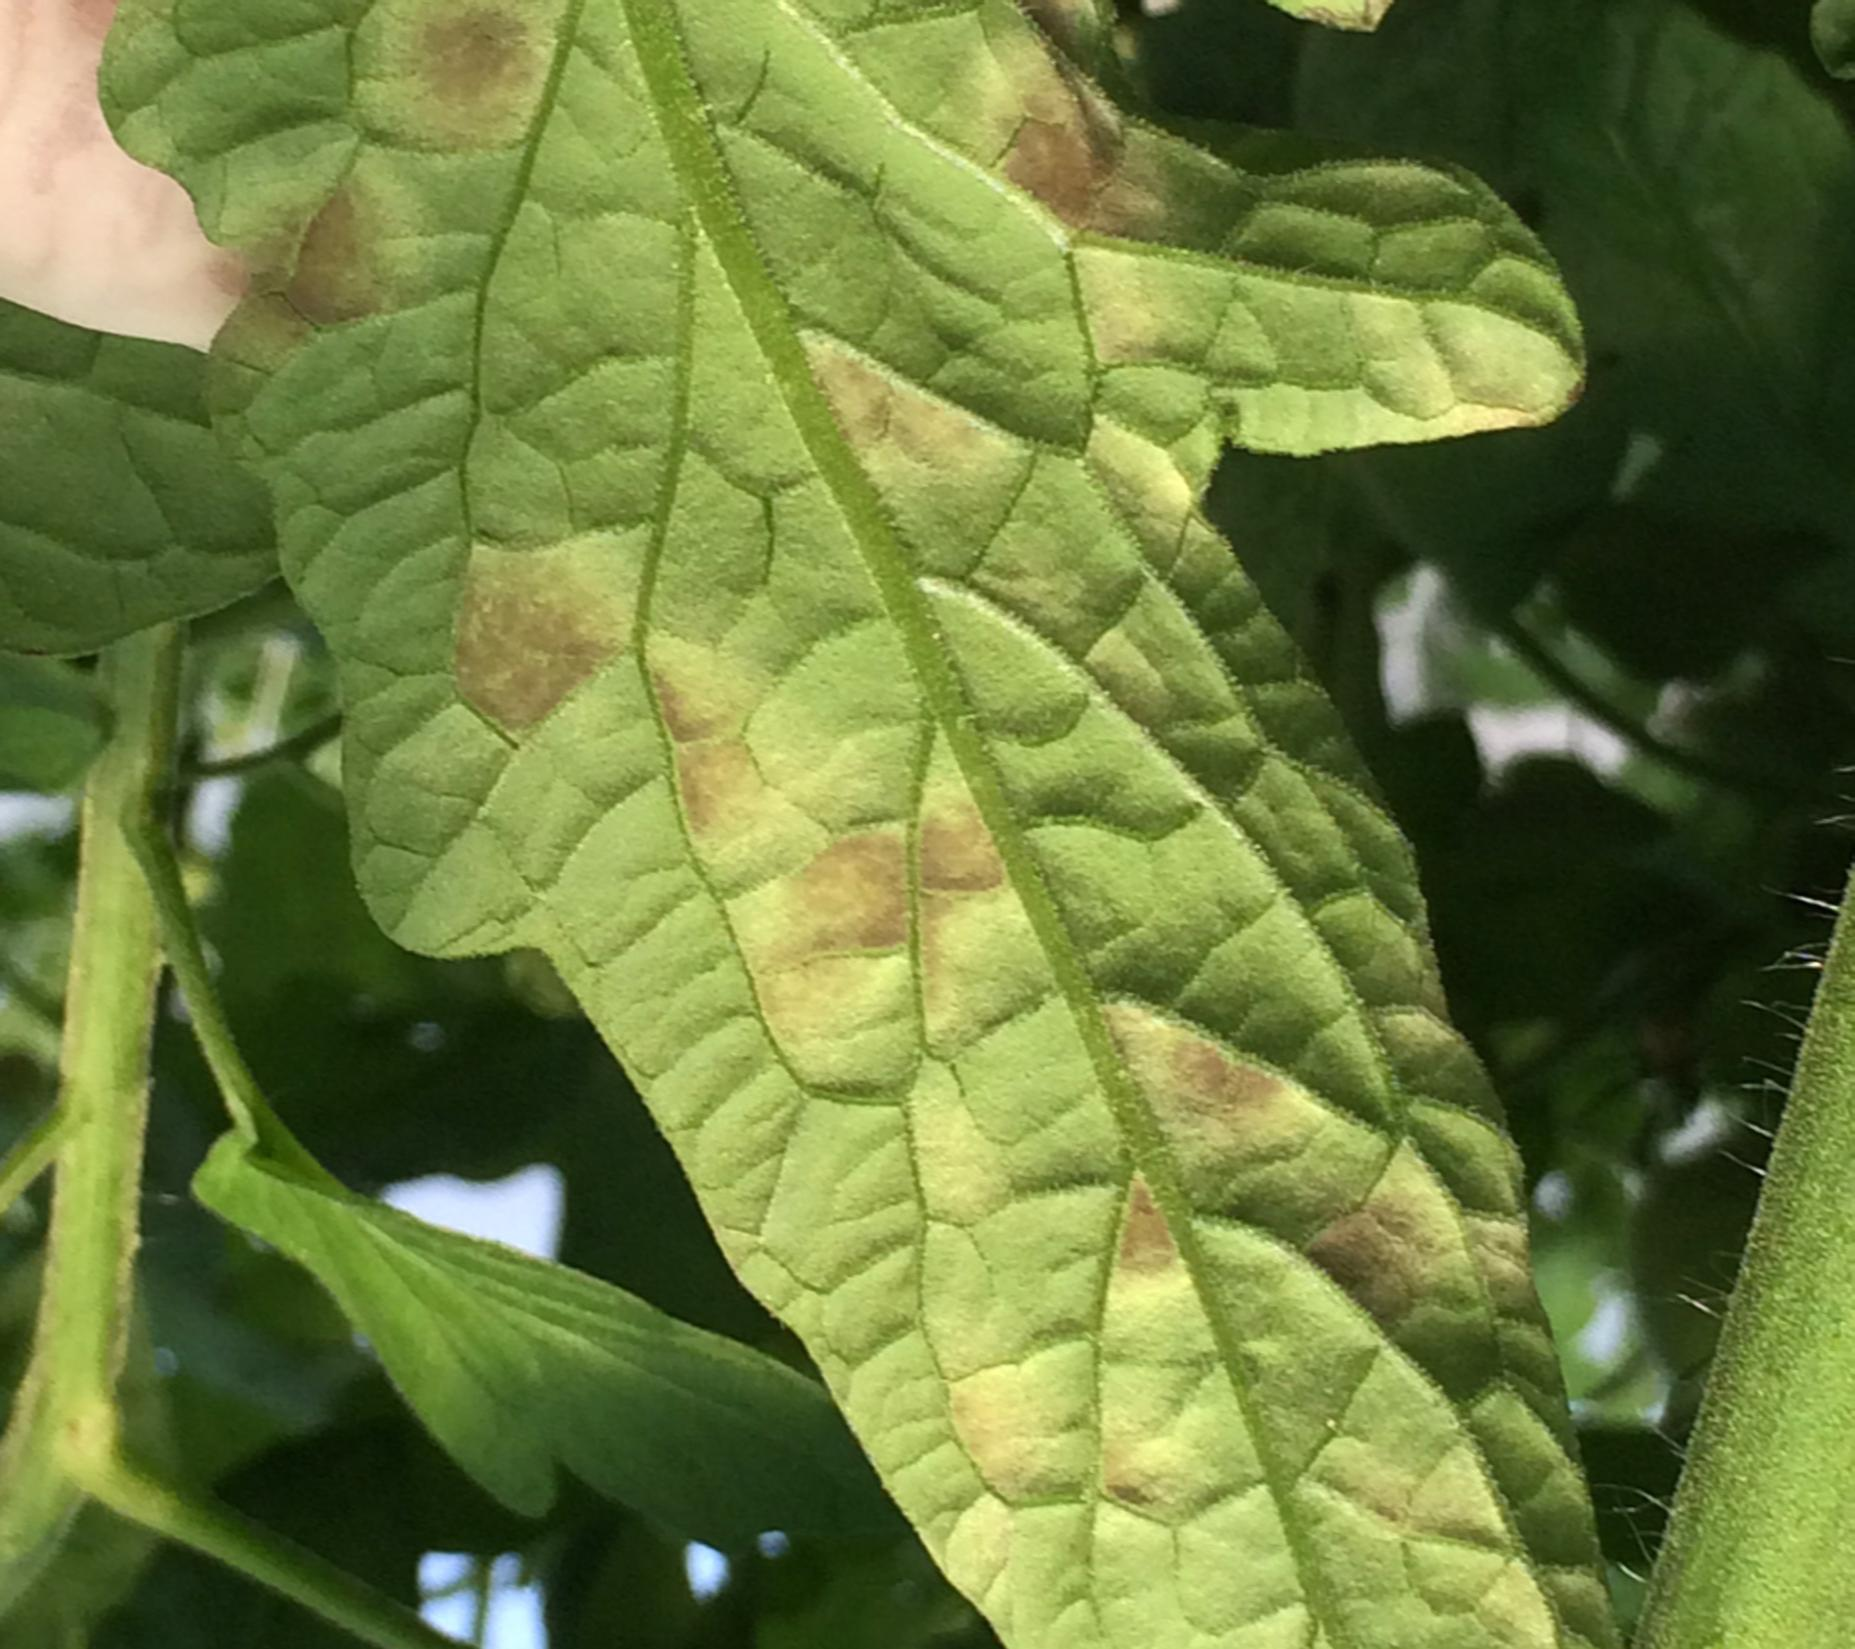Tomato mold leaf: (51, 0, 1666, 1649)
